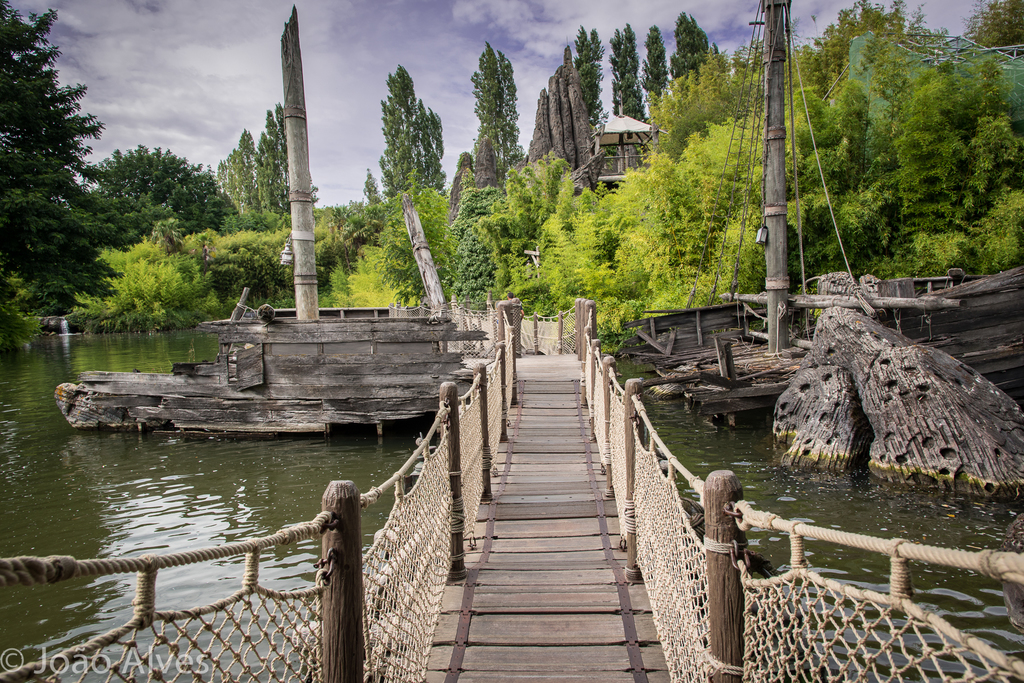Tree: (787, 0, 1023, 266), (554, 53, 749, 294), (324, 65, 462, 313), (81, 147, 266, 305), (458, 46, 565, 302), (3, 23, 93, 270), (211, 102, 307, 321), (661, 14, 725, 103), (559, 32, 610, 143), (641, 26, 677, 113), (608, 32, 645, 113)
